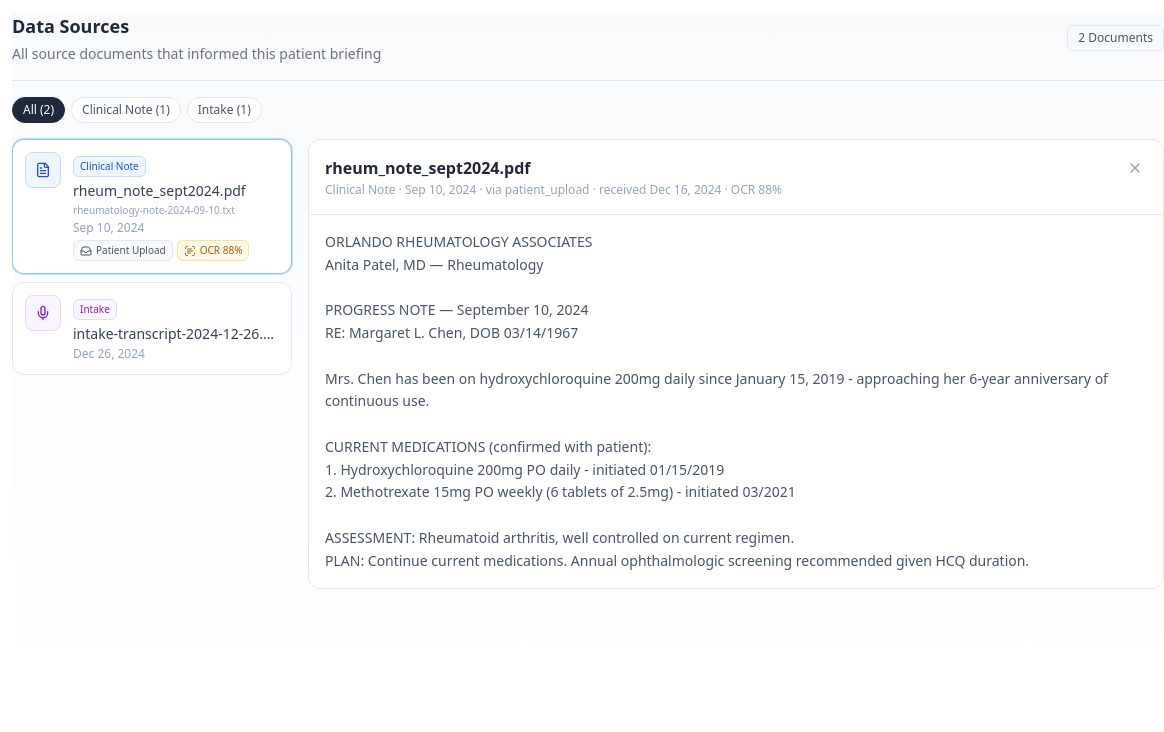
Test: SourcesTab › filters the document list by type chips (Q2)
The image size is (1164, 732).
Click the button "Intake (1)". click: click(224, 110)
box: [187, 97, 262, 123]
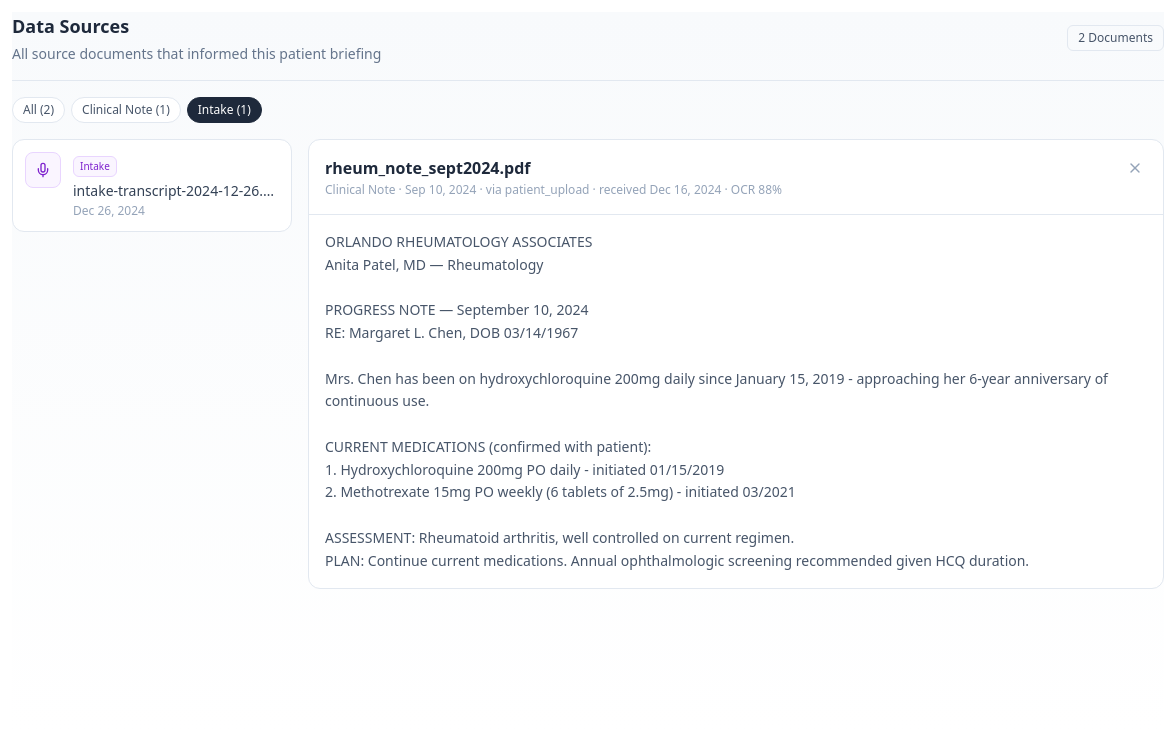
Expected: the button "Intake intake-transcript-2024-12-26.txt Dec 26, 2024" is shown, [12, 139, 292, 232]
Click the button "All (2)". click: click(39, 110)
box: [12, 97, 65, 123]
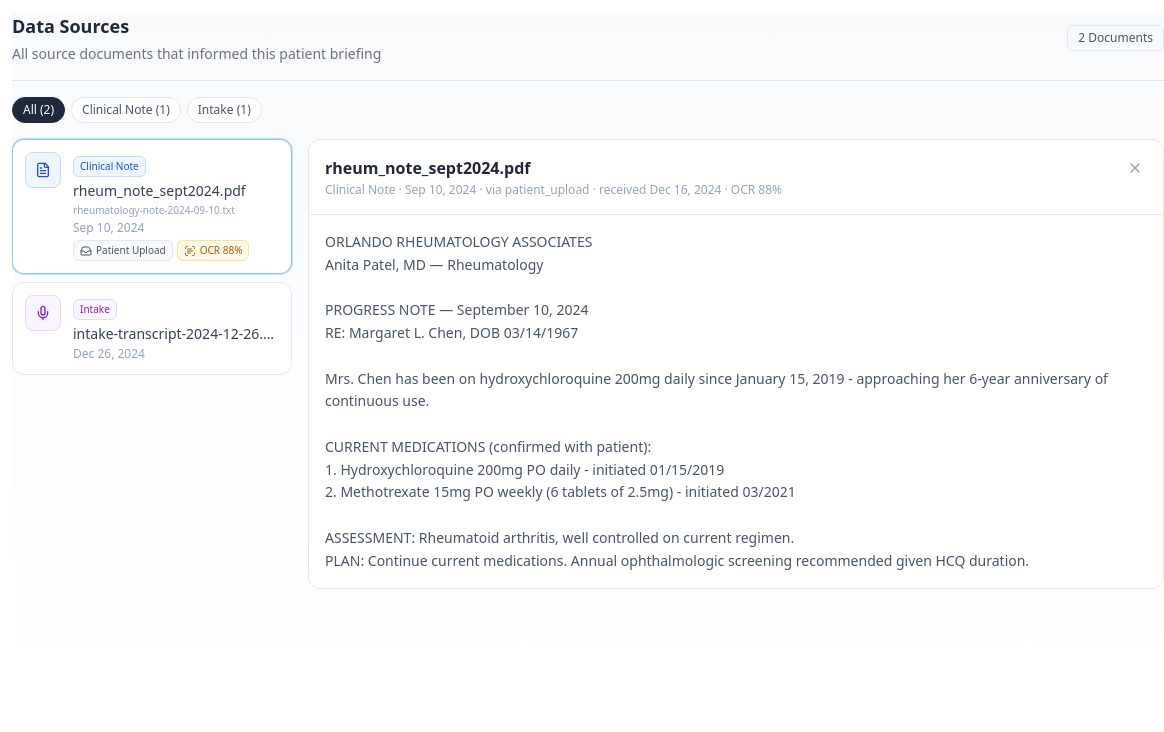
Expected: the button "rheum_note_sept2024.pdf" is shown, [12, 139, 292, 274]
